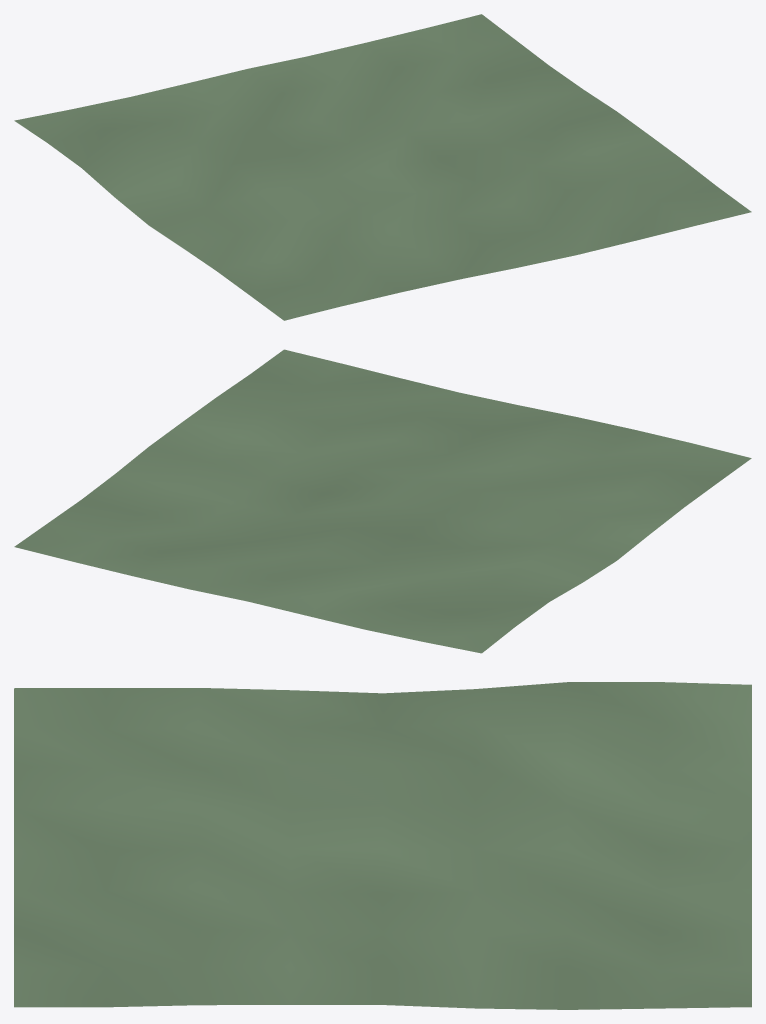
3 views of the same model, one above another, from view 1: azimuth 30°, elevation 25°; view 2: azimuth 150°, elevation 25°; view 3: azimuth 270°, elevation 25° (orthographic). The views are drawn at different scales.
Visible parts, largest first — view 1: Lo; view 2: Lo; view 3: Lo.
Boxes of the visible parts, <box> form: Lo: <box>14,14,751,320</box>; Lo: <box>14,349,751,653</box>; Lo: <box>14,682,751,1009</box>.
Size of the model in its own units: 256 by 7.4 by 256.
